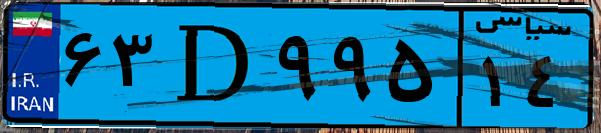1: (475, 38, 525, 113)
3: (110, 28, 158, 98)
4: (525, 38, 570, 115)
5: (385, 28, 445, 110)
6: (57, 26, 110, 100)
9: (270, 28, 330, 110), (330, 28, 385, 110)
D: (158, 12, 270, 120)
